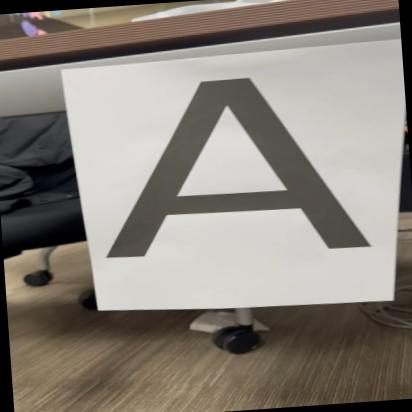seat: (80, 53, 389, 275)
